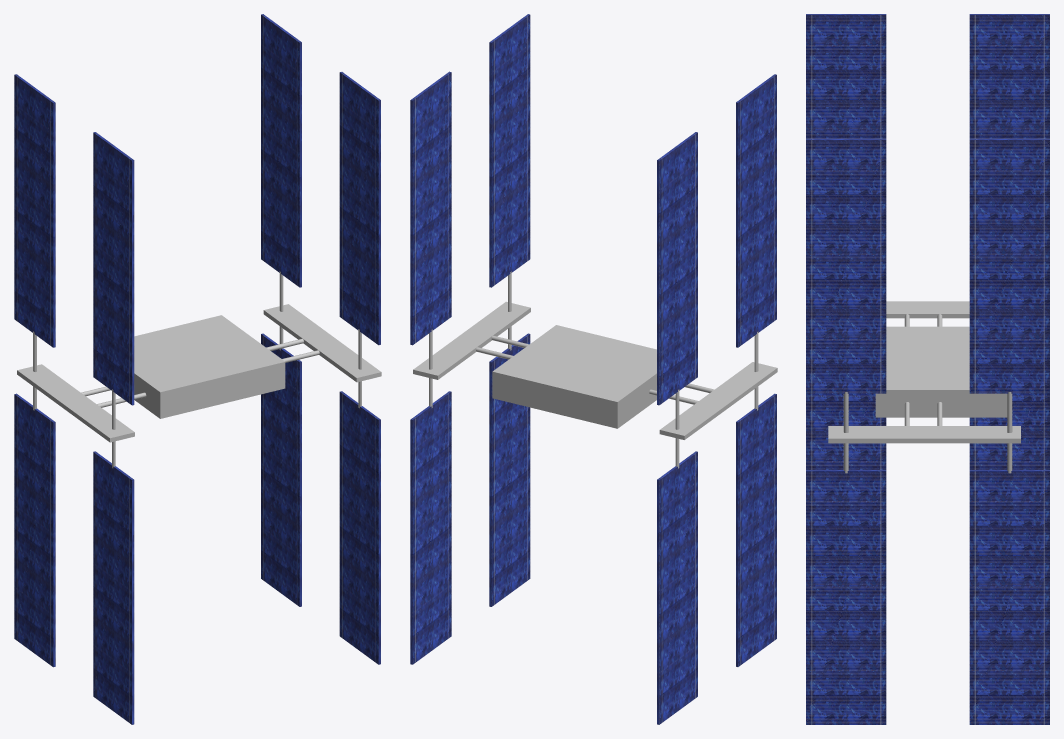
File: Small Station.obj
3 views of the same model, side by side, from view 1: azimuth 30°, elevation 25°; view 2: azimuth 150°, elevation 25°; view 3: azimuth 270°, elevation 25° (orthographic). The views are drawn at different scales.
Visible parts, largest first — view 1: Body, Solar4, Solar3, Solar1, Solar5, Solar7, Solar8, Solar2, Solar6, RightBeam, LeftBeam; view 2: Body, Solar1, Solar2, Solar6, Solar3, Solar4, Solar8, Solar7, Solar5, RightBeam, LeftBeam; view 3: Solar1, Solar2, Solar5, Solar6, Solar3, Solar4, Body, Solar7, Solar8, LeftBeam, RightBeam, Connector2 (+1 smaller).
Part boxes in pixels (left/top/right/bottom): Body: left=134, top=315, right=285, bottom=418; Solar4: left=14, top=74, right=55, bottom=347; Solar3: left=93, top=132, right=134, bottom=405; Solar1: left=339, top=72, right=380, bottom=345; Solar5: left=339, top=391, right=380, bottom=664; Solar7: left=93, top=451, right=134, bottom=724; Solar8: left=14, top=393, right=55, bottom=667; Solar2: left=261, top=14, right=301, bottom=287; Solar6: left=261, top=333, right=301, bottom=606; RightBeam: left=17, top=364, right=134, bottom=442; LeftBeam: left=263, top=304, right=381, bottom=382; Body: left=492, top=325, right=656, bottom=428; Solar1: left=489, top=14, right=530, bottom=287; Solar2: left=410, top=71, right=451, bottom=345; Solar6: left=410, top=391, right=451, bottom=664; Solar3: left=736, top=74, right=776, bottom=347; Solar4: left=657, top=132, right=697, bottom=405; Solar8: left=657, top=451, right=697, bottom=724; Solar7: left=736, top=393, right=776, bottom=666; Solar5: left=489, top=333, right=530, bottom=606; RightBeam: left=659, top=362, right=777, bottom=439; LeftBeam: left=413, top=301, right=530, bottom=379; Solar1: left=806, top=138, right=886, bottom=393; Solar2: left=969, top=138, right=1049, bottom=393; Solar5: left=806, top=470, right=886, bottom=724; Solar6: left=969, top=470, right=1049, bottom=724; Solar3: left=806, top=14, right=886, bottom=138; Solar4: left=969, top=14, right=1049, bottom=138; Body: left=875, top=326, right=1007, bottom=417; Solar7: left=806, top=393, right=886, bottom=469; Solar8: left=969, top=393, right=1049, bottom=469; LeftBeam: left=828, top=426, right=1020, bottom=443; RightBeam: left=886, top=301, right=969, bottom=318; Connector2: left=1007, top=392, right=1012, bottom=473.
Bounding box in the file's own units: 26.42 × 52.46 × 19.82.
